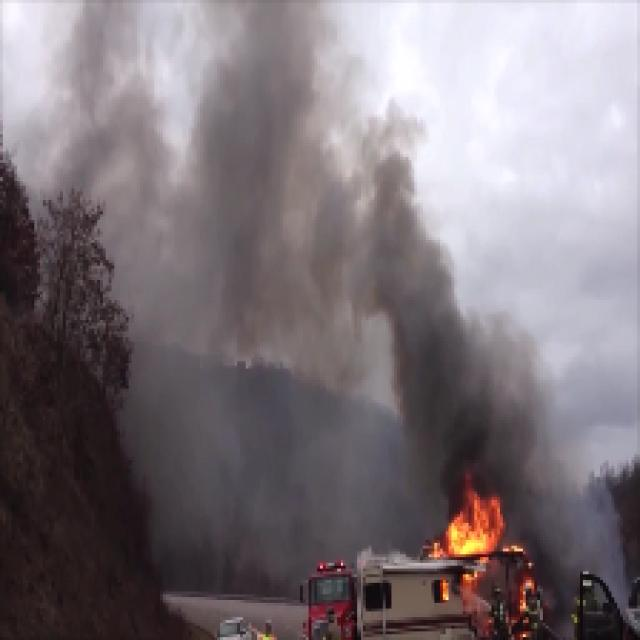fire: (445, 486, 501, 555)
smoke: (224, 205, 414, 312), (417, 295, 526, 475)
